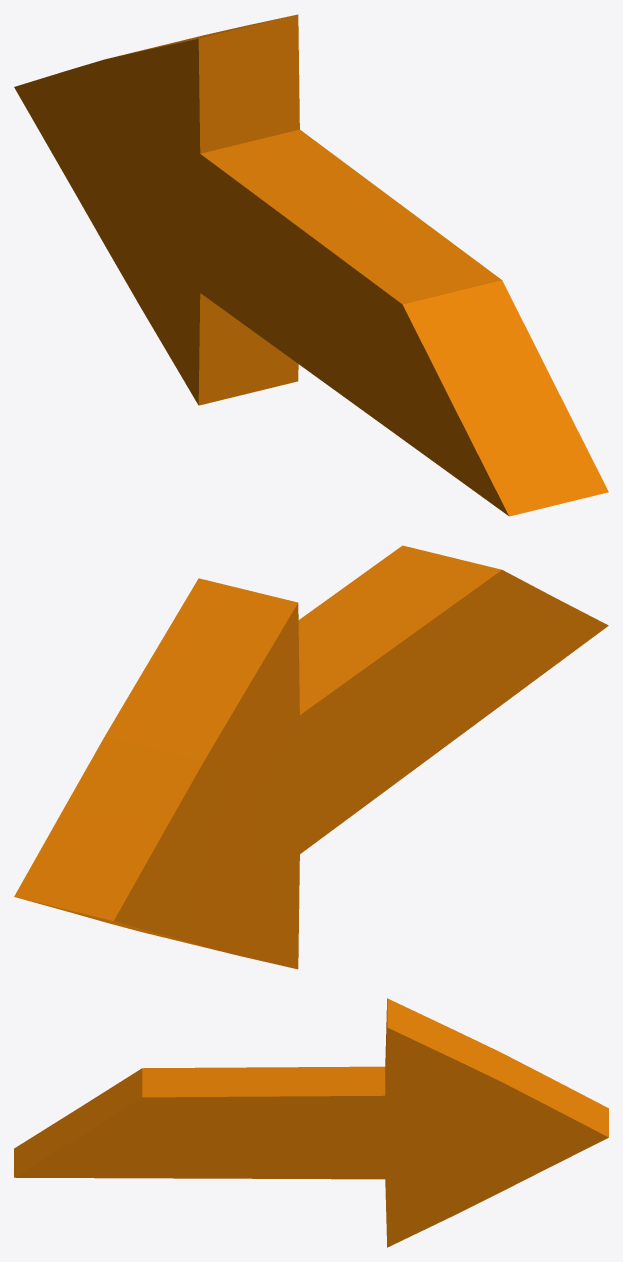
File: orangearrow.fbx
3 views of the same model, one above another, from view 1: azimuth 30°, elevation 25°; view 2: azimuth 150°, elevation 25°; view 3: azimuth 270°, elevation 25° (orthographic). The views are drawn at different scales.
Parts seen in each view (by area): view 1: pCylinder5; view 2: pCylinder5; view 3: pCylinder5.
Part boxes in pixels (bbox=[...]): pCylinder5: bbox=[14, 14, 608, 516]; pCylinder5: bbox=[14, 545, 608, 969]; pCylinder5: bbox=[14, 998, 608, 1247].
Size of the model in its own units: 0.342 by 1.2 by 2.94.
